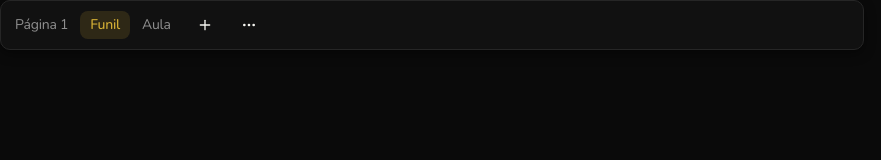
Scenario: PageTabs › duplo clique renomeia no lugar: Enter confirma
Later steps or results of the test are not shown.
Double-click the tab "Funil" at (105,25), box x1=80 y1=11 x2=130 y2=39
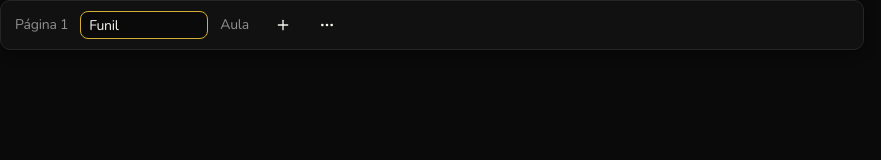
Now the field named "Nome da página" holds "Funil", box x1=80 y1=11 x2=208 y2=39
